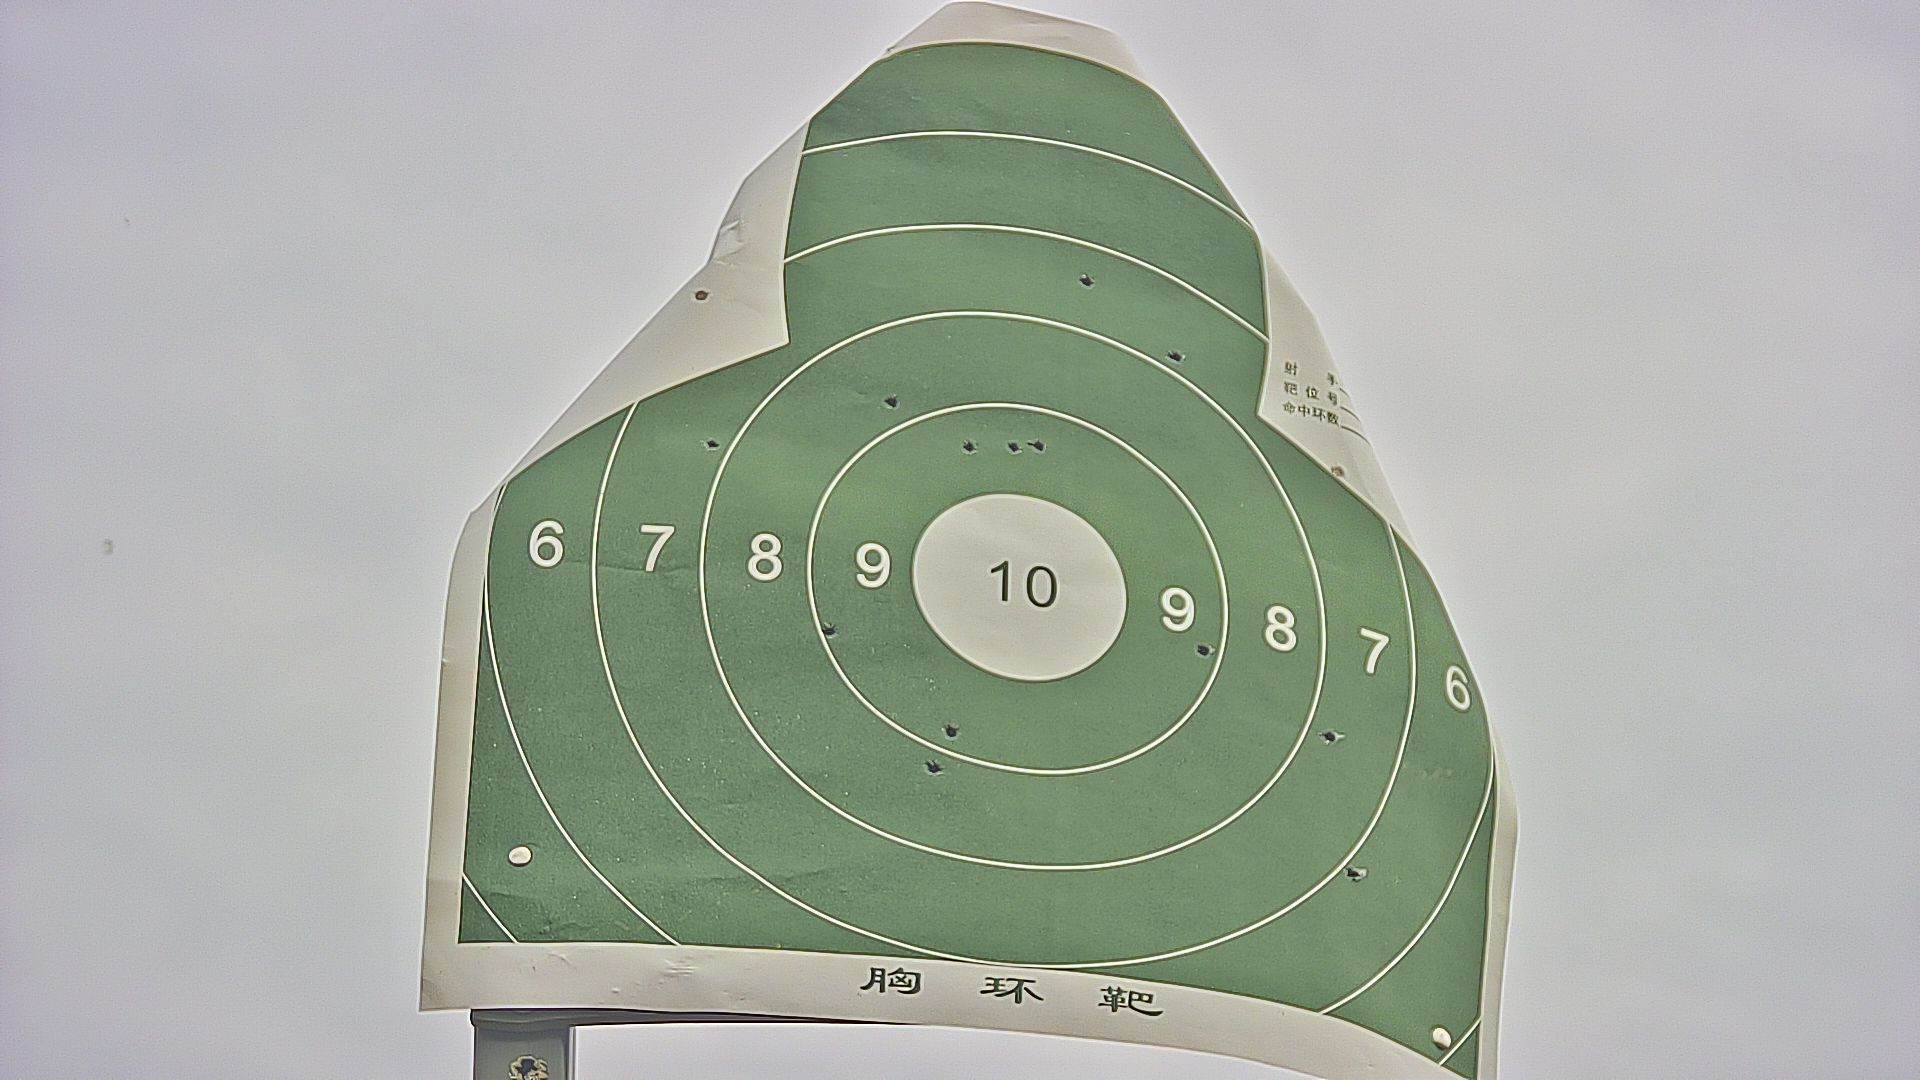hole: (1331, 458, 1346, 485), (1345, 864, 1365, 881), (1323, 727, 1338, 742), (963, 438, 977, 454), (944, 723, 960, 737), (1193, 642, 1211, 655), (1077, 272, 1092, 286), (1168, 348, 1183, 363), (886, 394, 899, 410), (927, 760, 940, 775), (823, 624, 836, 638), (694, 285, 703, 305), (1007, 440, 1021, 452), (704, 439, 720, 448), (1033, 439, 1044, 448)
kernel: (1015, 578, 1019, 582)
target: (452, 44, 1495, 1080)
ten: (909, 487, 1130, 680)
